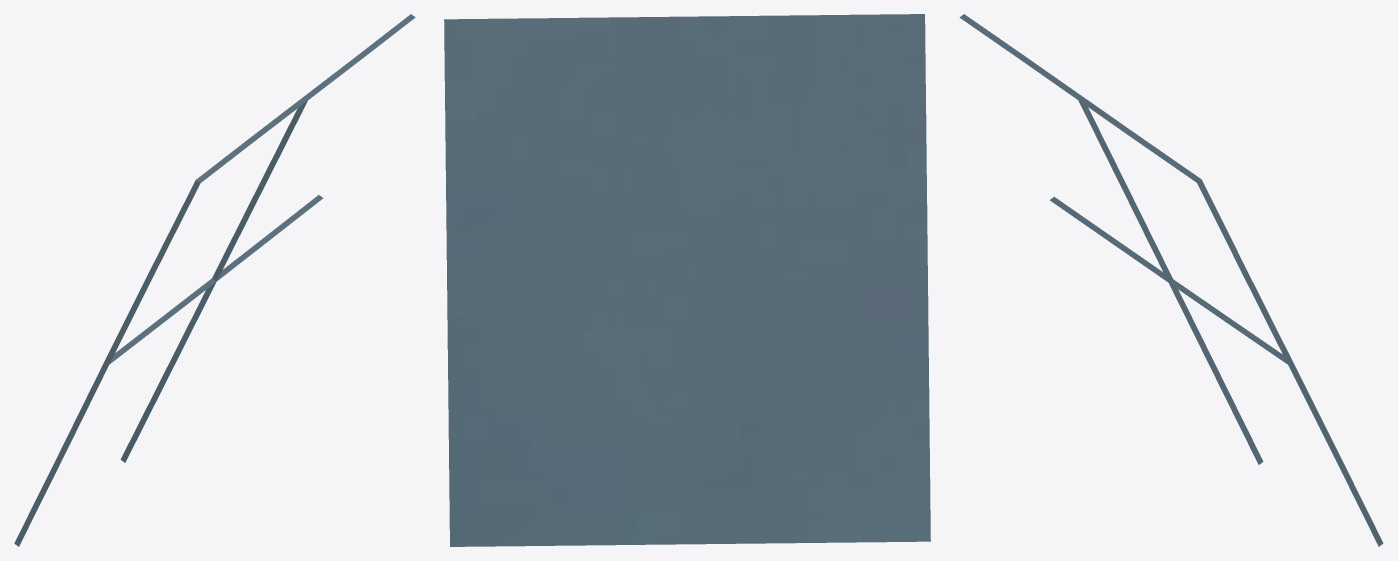
The picture shows the model from 3 angles, left to right: view 1: azimuth 30°, elevation 25°; view 2: azimuth 150°, elevation 25°; view 3: azimuth 270°, elevation 25°; orthographic projection. The views are drawn at different scales.
Bounding box in the file's own units: 153 × 139 × 129.
Materials: 1 (1 with a texture image).
